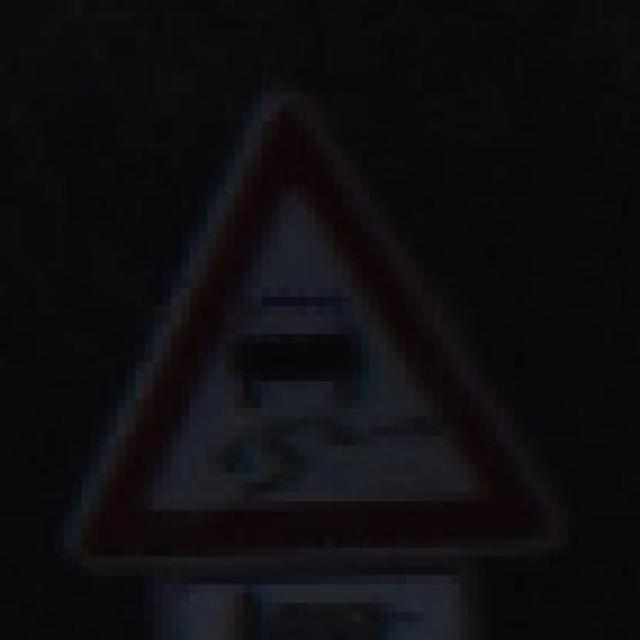Slippery Road Ahead: (45, 74, 577, 575)
